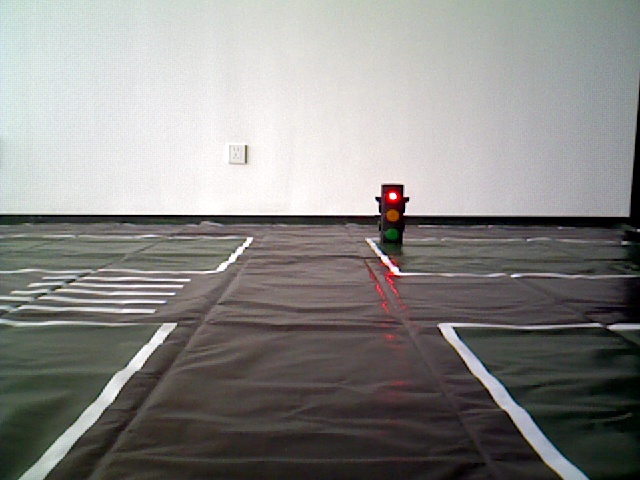red: (381, 185, 404, 253)
